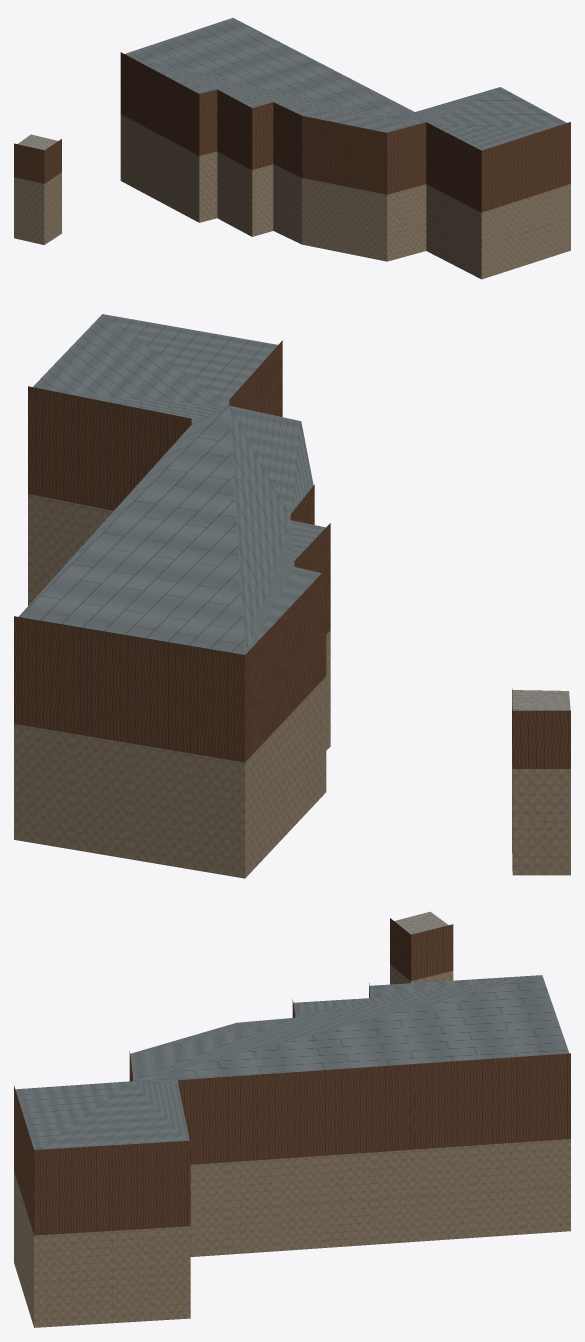
Rendered from bld_c33_-38_445.gltf.
The picture shows the model from 3 angles, top to bottom: view 1: azimuth 30°, elevation 25°; view 2: azimuth 150°, elevation 25°; view 3: azimuth 270°, elevation 25°; orthographic projection. The views are drawn at different scales.
Visible parts, largest first — view 1: bld_c33_-38_445; view 2: bld_c33_-38_445; view 3: bld_c33_-38_445.
Part boxes in pixels (x1=…): bld_c33_-38_445: x1=14, y1=18, x2=570, y2=279; bld_c33_-38_445: x1=14, y1=314, x2=570, y2=878; bld_c33_-38_445: x1=14, y1=911, x2=570, y2=1327.
Bounding box in the file's own units: 31.84 × 9.48 × 26.91.
Materials: 5 (5 with a texture image).
